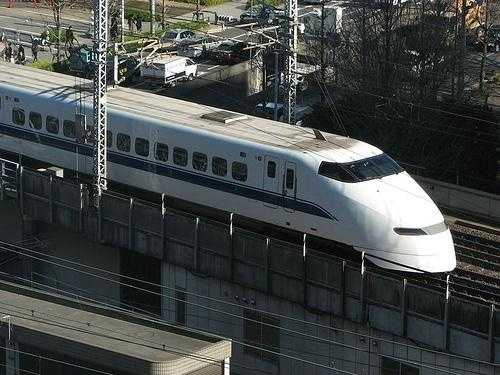car: (153, 28, 206, 54), (177, 36, 219, 59), (211, 40, 250, 63)
train: (1, 54, 466, 277)
